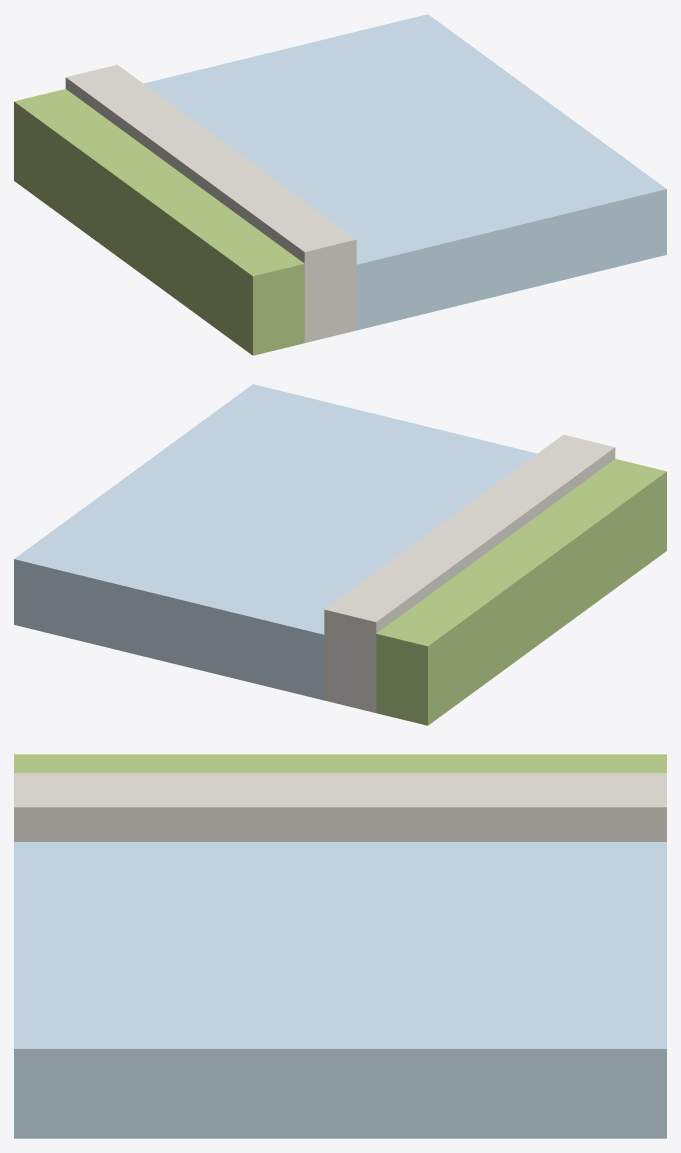
Rendered from road_tile_252.glb.
3 views of the same model, one above another, from view 1: azimuth 30°, elevation 25°; view 2: azimuth 150°, elevation 25°; view 3: azimuth 270°, elevation 25° (orthographic). The views are drawn at different scales.
Visible parts, largest first — view 1: roadTile_252; view 2: roadTile_252; view 3: roadTile_252.
Part boxes in pixels (x1,y1,x2,y2): roadTile_252: [14, 14, 666, 355]; roadTile_252: [14, 384, 666, 725]; roadTile_252: [14, 754, 666, 1138].
Bounding box in the file's own units: 3 × 0.63 × 3.
